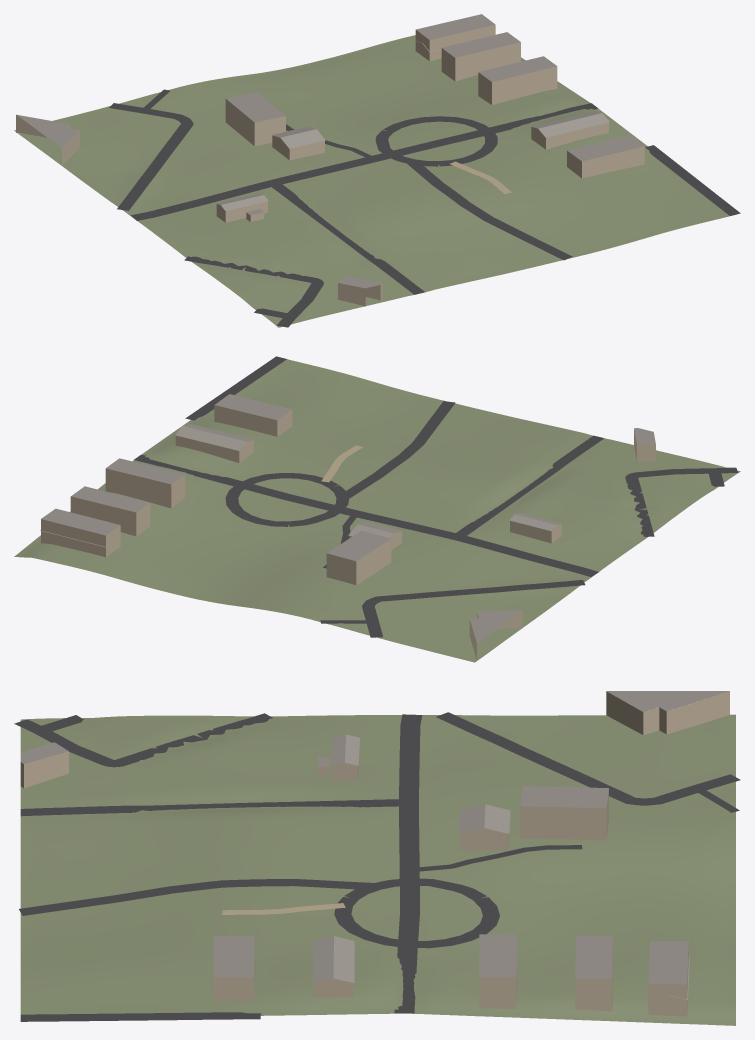
The picture shows the model from 3 angles, top to bottom: view 1: azimuth 30°, elevation 25°; view 2: azimuth 150°, elevation 25°; view 3: azimuth 270°, elevation 25°; orthographic projection. The views are drawn at different scales.
Visible parts, largest first — view 1: ground, road, walls, roofs, sheetRoofs; view 2: ground, road, walls, roofs, sheetRoofs; view 3: ground, road, walls, roofs, sheetRoofs, path.
Part boxes in pixels (<box>): ground: <box>14,35,736,327</box>; road: <box>109,89,740,327</box>; walls: <box>16,24,644,306</box>; roofs: <box>16,14,643,288</box>; sheetRoofs: <box>216,41,609,210</box>; ground: <box>14,359,740,662</box>; road: <box>134,356,737,637</box>; walls: <box>41,405,655,659</box>; roofs: <box>41,394,655,643</box>; sheetRoofs: <box>40,424,561,547</box>; ground: <box>20,714,735,1025</box>; road: <box>14,712,740,1021</box>; walls: <box>20,691,729,1016</box>; roofs: <box>20,691,729,984</box>; sheetRoofs: <box>313,734,689,999</box>; path: <box>222,903,345,914</box>.
Size of the model in its own units: 255 by 17.07 by 254.
